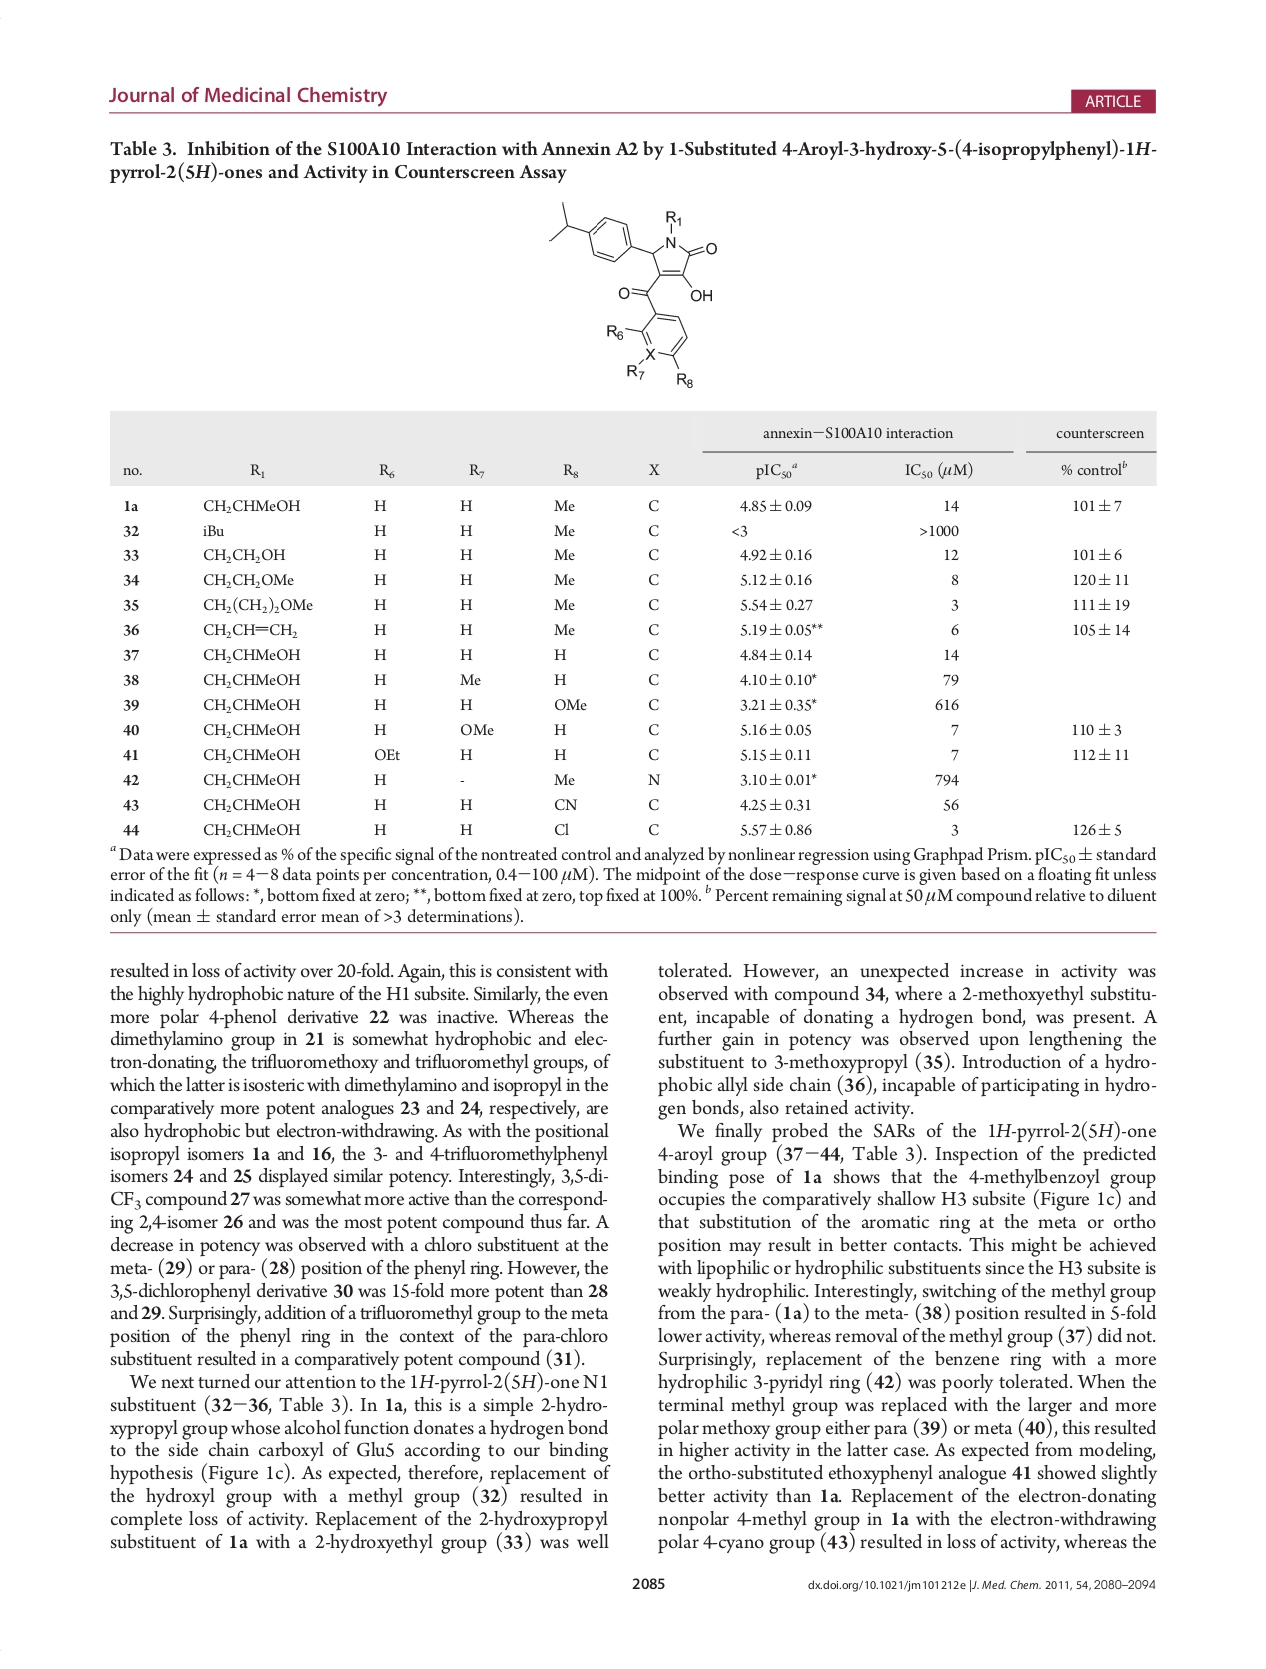exist_molecular: (532, 194, 729, 398)
